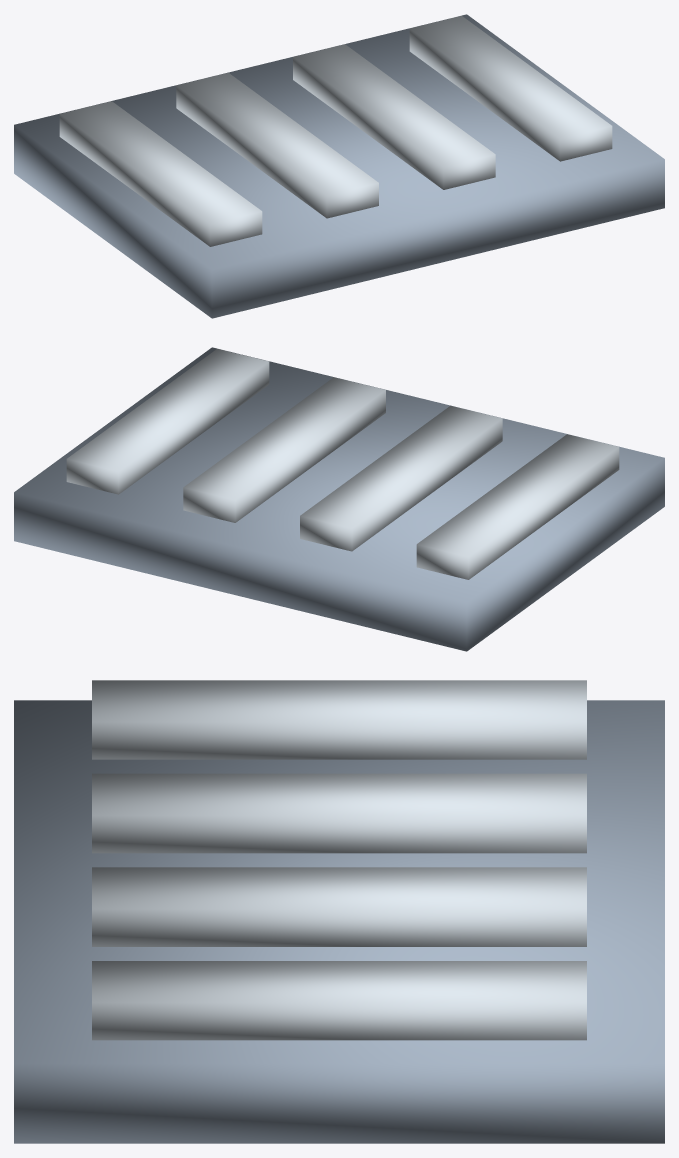
The model's file is 47_L90_ThrustVectorCalibrationFixture.glb.
3 views of the same model, one above another, from view 1: azimuth 30°, elevation 25°; view 2: azimuth 150°, elevation 25°; view 3: azimuth 270°, elevation 25° (orthographic). The views are drawn at different scales.
Visible parts, largest first — view 1: L90_ThrustVectorCalibrationFi_Part_0000, L90_ThrustVectorCalibrationFi_Part_0001; view 2: L90_ThrustVectorCalibrationFi_Part_0000, L90_ThrustVectorCalibrationFi_Part_0001; view 3: L90_ThrustVectorCalibrationFi_Part_0001, L90_ThrustVectorCalibrationFi_Part_0000.
Part boxes in pixels (x1,y1,x2,y2): L90_ThrustVectorCalibrationFi_Part_0000: [14, 14, 664, 318]; L90_ThrustVectorCalibrationFi_Part_0001: [59, 16, 612, 246]; L90_ThrustVectorCalibrationFi_Part_0000: [14, 347, 664, 651]; L90_ThrustVectorCalibrationFi_Part_0001: [66, 349, 619, 579]; L90_ThrustVectorCalibrationFi_Part_0001: [92, 680, 586, 1040]; L90_ThrustVectorCalibrationFi_Part_0000: [14, 700, 664, 1143].
Bounding box in the file's own units: 3.3 × 0.845 × 2.5.
